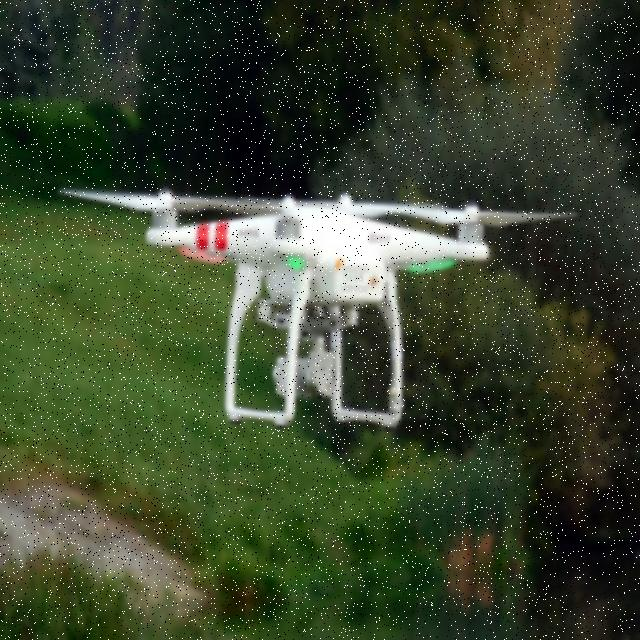UAV: (144, 185, 493, 431)
